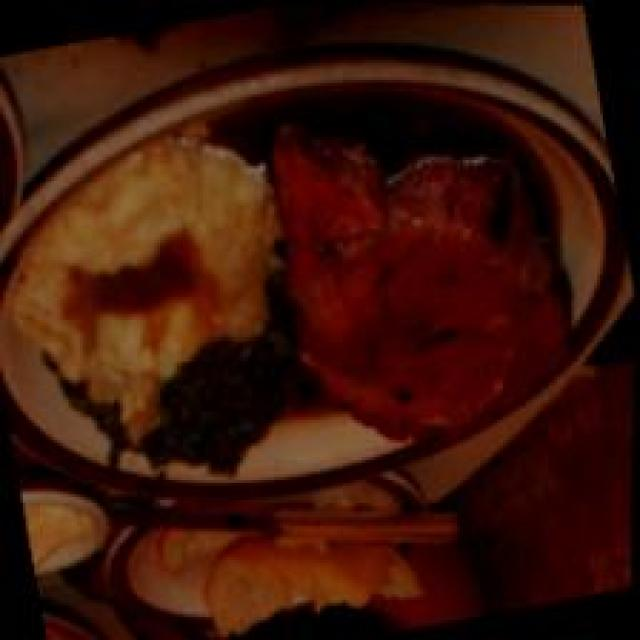Rib: (242, 64, 604, 462)
